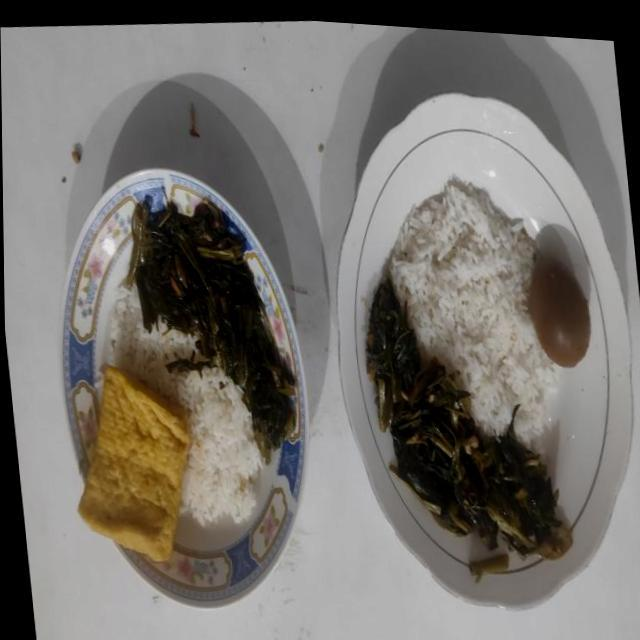nasi_putih: (387, 180, 556, 447), (107, 286, 266, 524)
tahu_goreng: (78, 364, 190, 560)
tumis_kangkung: (364, 276, 572, 562), (125, 194, 298, 463)
